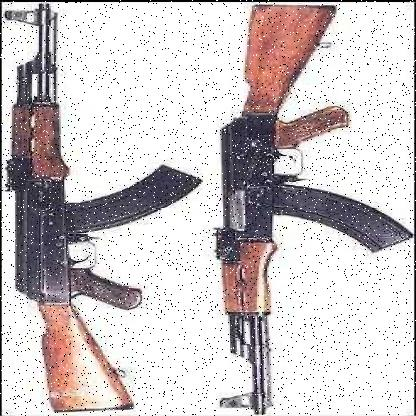rifle: (184, 1, 415, 413), (0, 1, 174, 408)
